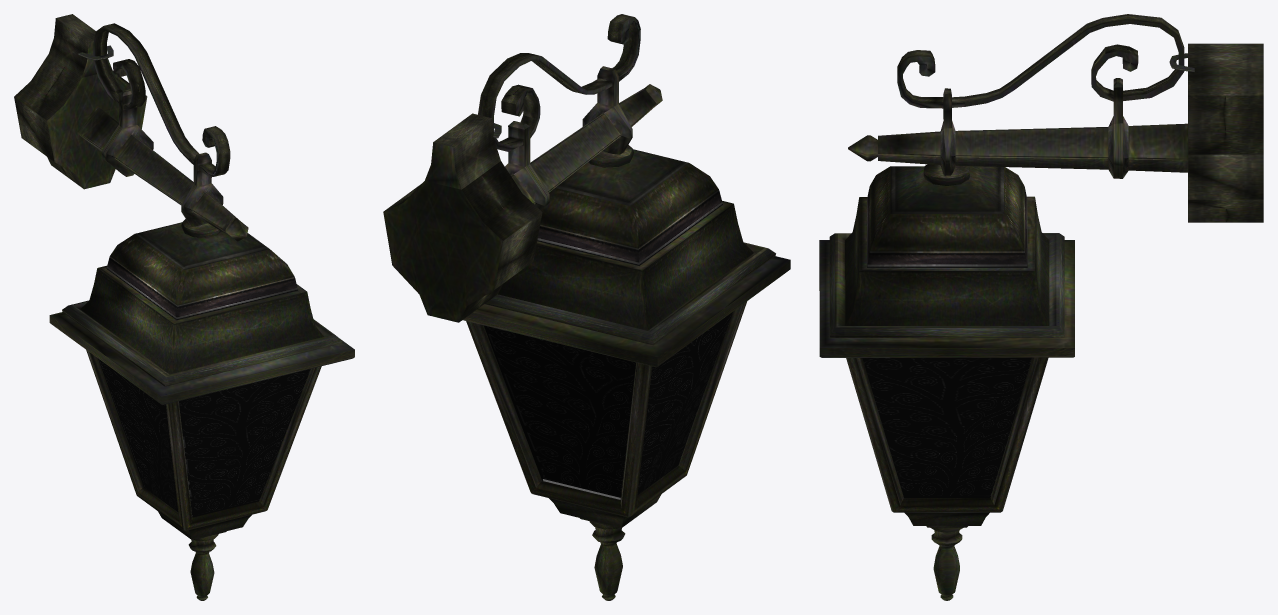
The model's file is lantern.fbx.
The picture shows the model from 3 angles, left to right: view 1: azimuth 30°, elevation 25°; view 2: azimuth 150°, elevation 25°; view 3: azimuth 270°, elevation 25°; orthographic projection. The views are drawn at different scales.
Visible parts, largest first — view 1: lantern, wrought_iron, holder, mount, knob, ring; view 2: lantern, wrought_iron, mount, holder, knob, ring; view 3: lantern, holder, wrought_iron, mount, knob, ring.
Boxes of the visible parts, bbox=[...] form: lantern: bbox=[49, 222, 354, 539]; wrought_iron: bbox=[98, 358, 310, 517]; holder: bbox=[77, 23, 248, 241]; mount: bbox=[14, 14, 147, 189]; knob: bbox=[188, 534, 218, 600]; ring: bbox=[181, 219, 221, 237]; lantern: bbox=[462, 149, 790, 527]; wrought_iron: bbox=[483, 312, 732, 497]; mount: bbox=[383, 113, 542, 322]; holder: bbox=[478, 14, 662, 209]; knob: bbox=[589, 521, 625, 600]; ring: bbox=[588, 145, 633, 167]; lantern: bbox=[819, 166, 1074, 527]; holder: bbox=[848, 14, 1188, 178]; wrought_iron: bbox=[862, 357, 1031, 497]; mount: bbox=[1188, 43, 1263, 222]; knob: bbox=[930, 527, 963, 600]; ring: bbox=[923, 164, 969, 185].
Bounding box in the file's own units: 0.5148 × 1.29 × 0.8945.
Materials: 3 (2 with a texture image).
